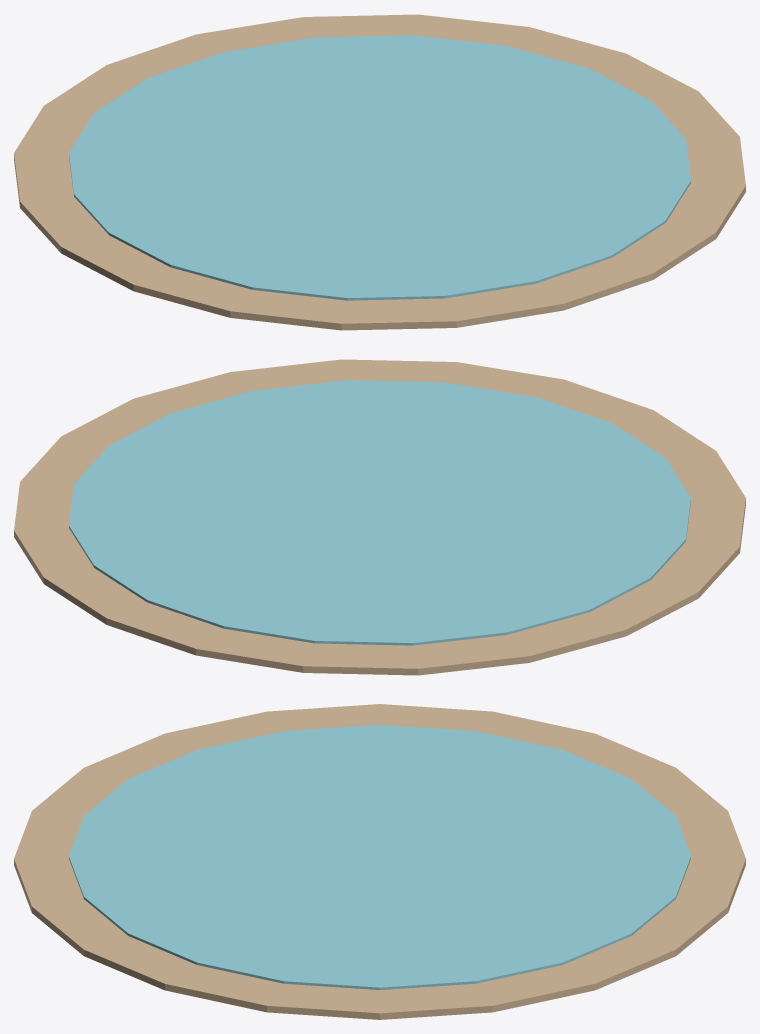
The model's file is SM_Env_Pond_01.glb.
3 views of the same model, one above another, from view 1: azimuth 30°, elevation 25°; view 2: azimuth 150°, elevation 25°; view 3: azimuth 270°, elevation 25° (orthographic).
Parts seen in each view (by area): view 1: SM_Pond_Water, SM_Pond_MudRing; view 2: SM_Pond_Water, SM_Pond_MudRing; view 3: SM_Pond_Water, SM_Pond_MudRing.
Part boxes in pixels (x1,y1,x2,y2): SM_Pond_Water: (69, 35, 690, 300); SM_Pond_MudRing: (14, 14, 745, 330); SM_Pond_Water: (69, 380, 690, 645); SM_Pond_MudRing: (14, 359, 745, 675); SM_Pond_Water: (69, 724, 690, 989); SM_Pond_MudRing: (14, 704, 745, 1019).
Size of the model in its own units: 4 by 0.055 by 4.
